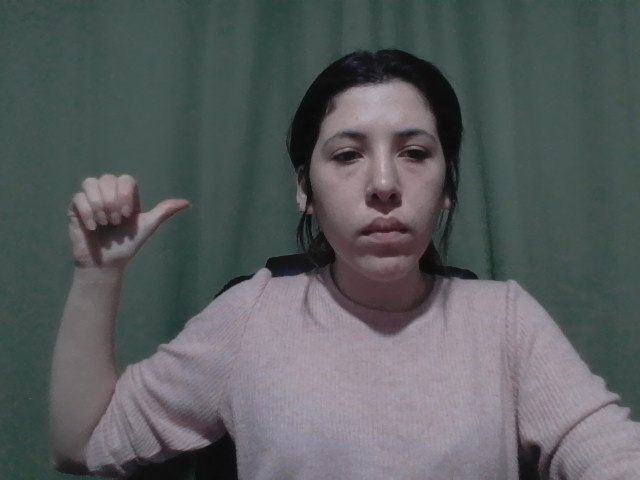CHAU: (56, 168, 192, 279)
